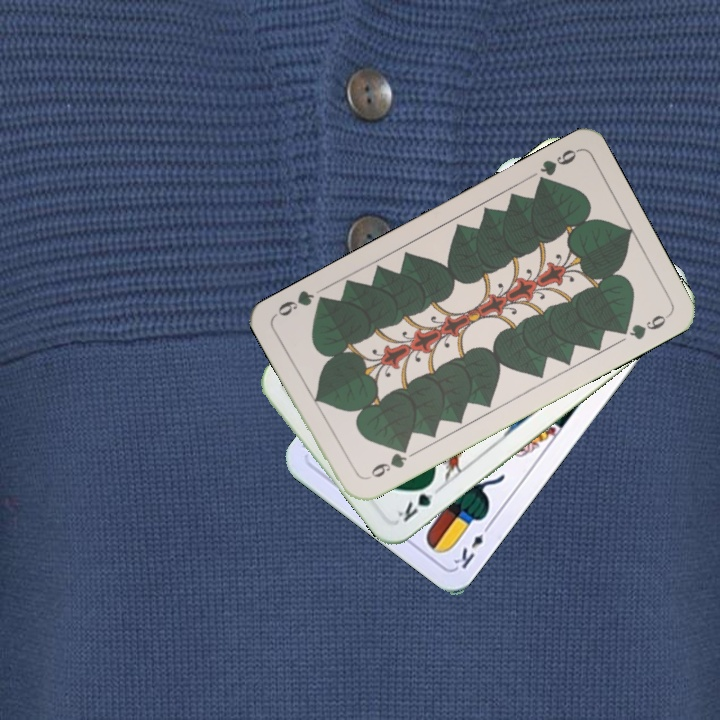EK: (449, 519, 494, 572)
G9: (532, 145, 581, 189), (361, 442, 411, 483)
GK: (393, 476, 445, 525)
